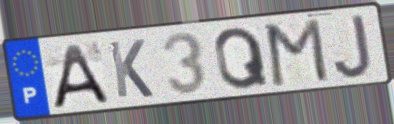3: (160, 29, 209, 98)
A: (50, 41, 112, 110)
J: (331, 12, 375, 81)
K: (106, 37, 156, 100)
M: (264, 16, 331, 89)
Q: (212, 25, 272, 92)
